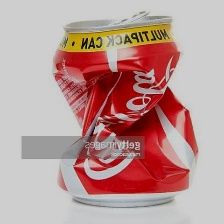can: (49, 7, 204, 211)
